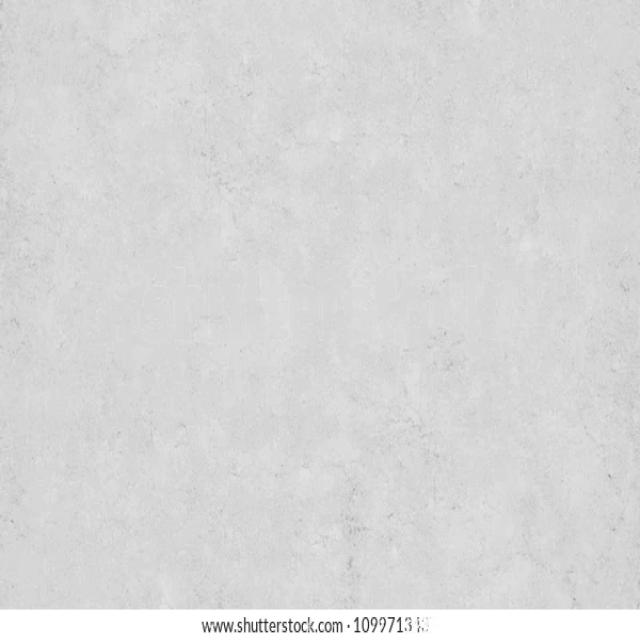rough and patchy surface: (5, 8, 638, 602)
